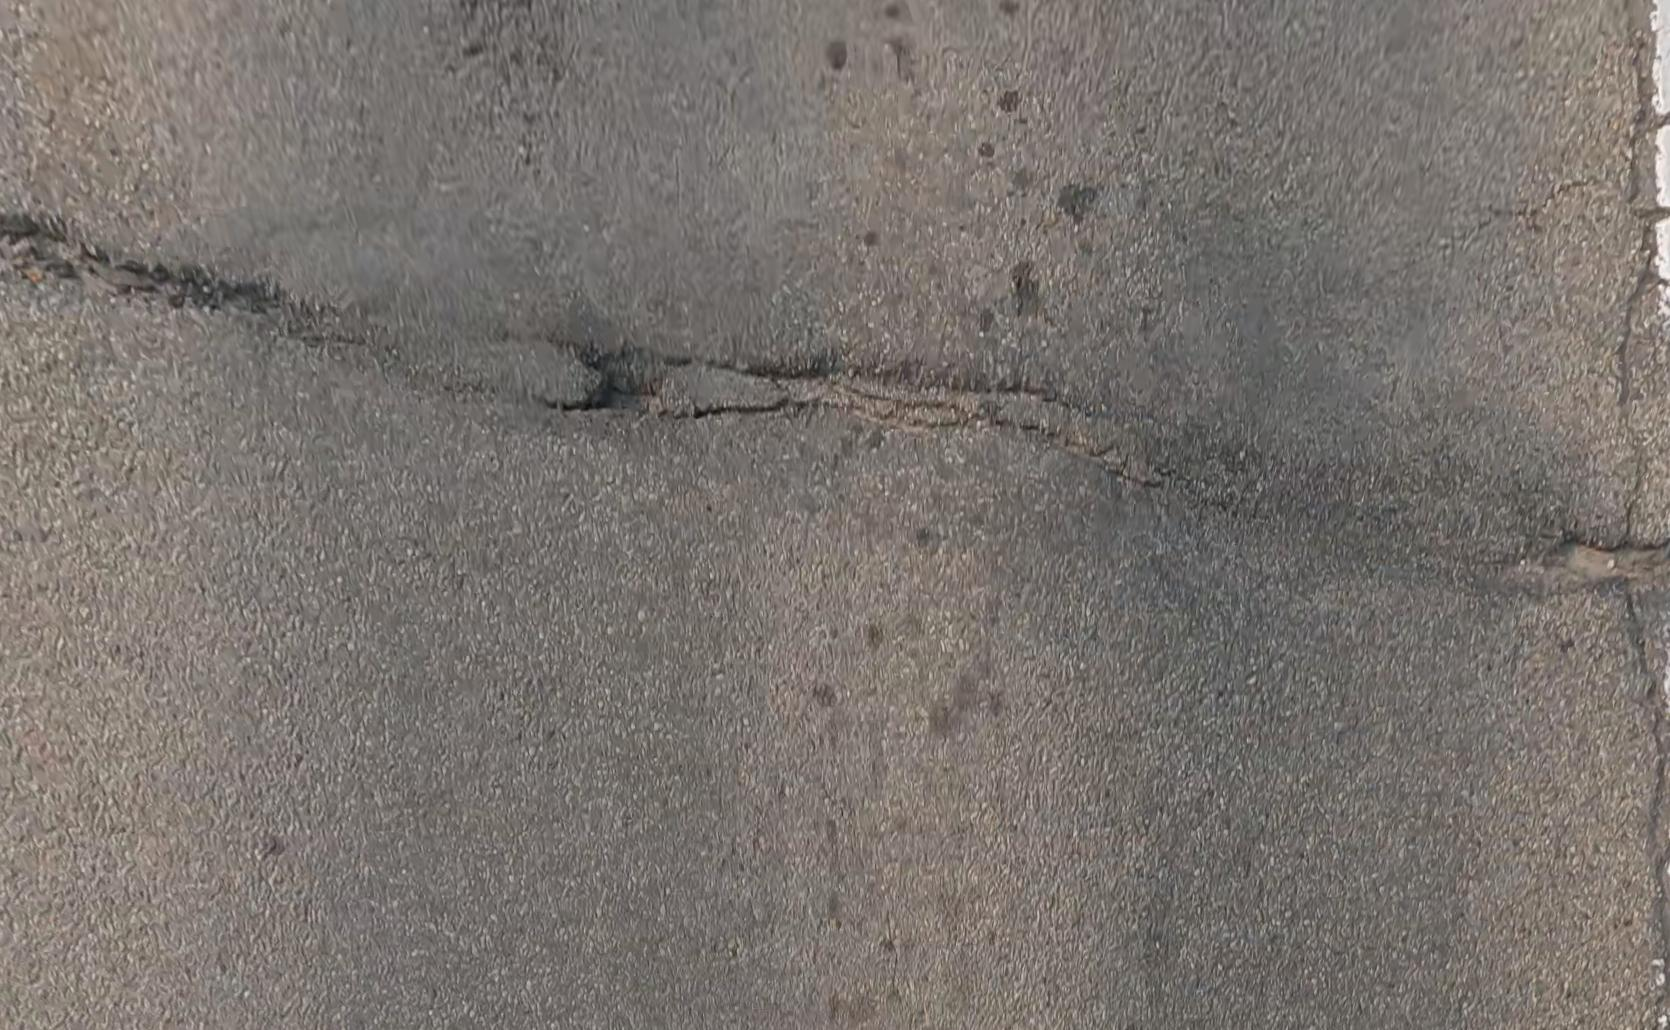pothole: (548, 344, 685, 415)
